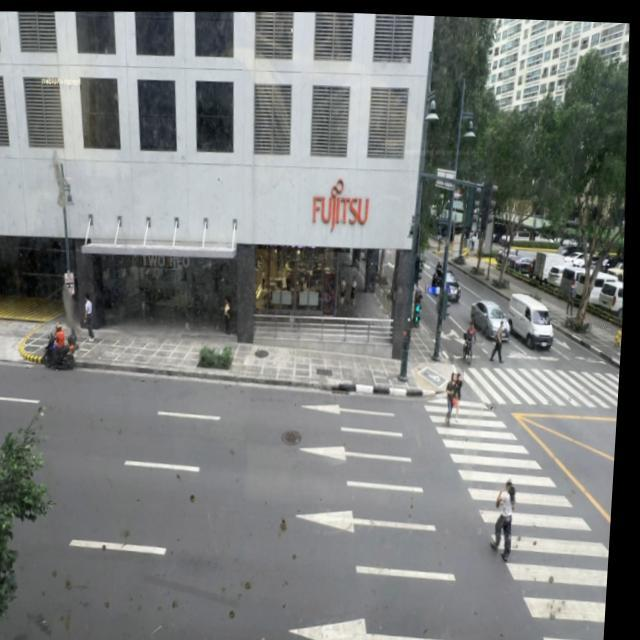jaywalking: (488, 320, 505, 362)
